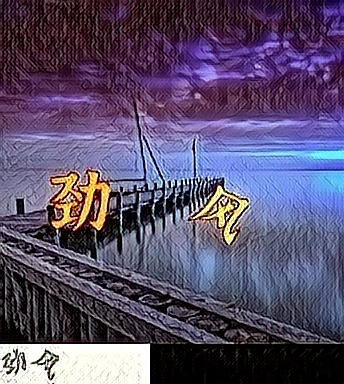B7E7: (188, 184, 248, 248)
BEA2: (50, 168, 110, 232)
